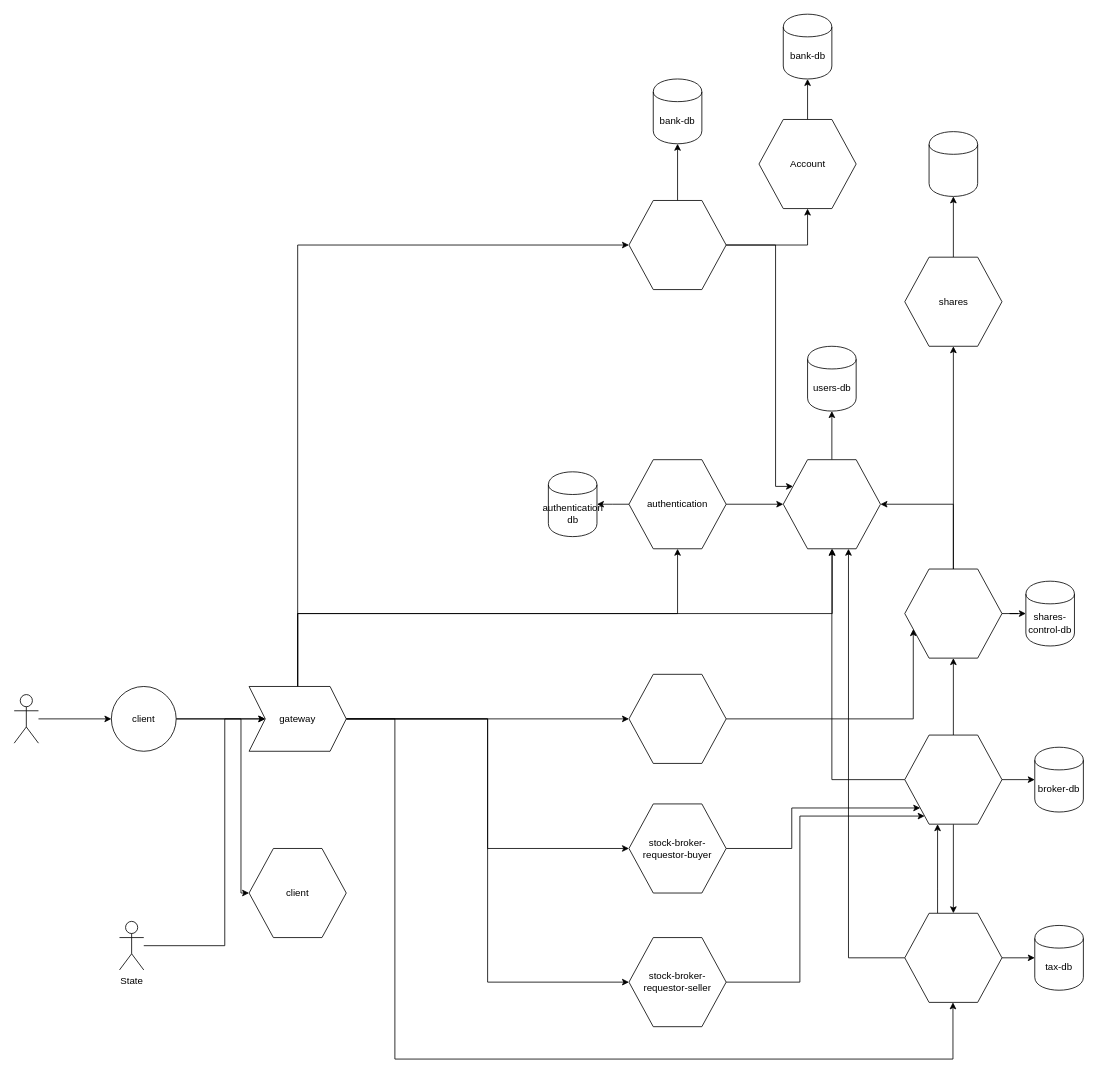
This 1098x1080 diagram has some shape labels left out. The shapes that lost their labels are listed below. From the top down, each one's centre as x and y in pixels, then its label:
(x=953, y=163): shares-db
(x=677, y=245): bank
(x=831, y=504): users
(x=953, y=613): public-share-control
(x=25, y=718): User
(x=677, y=718): stock-broker-provider
(x=953, y=779): stock-trader-broker
(x=953, y=957): tobin-tax
